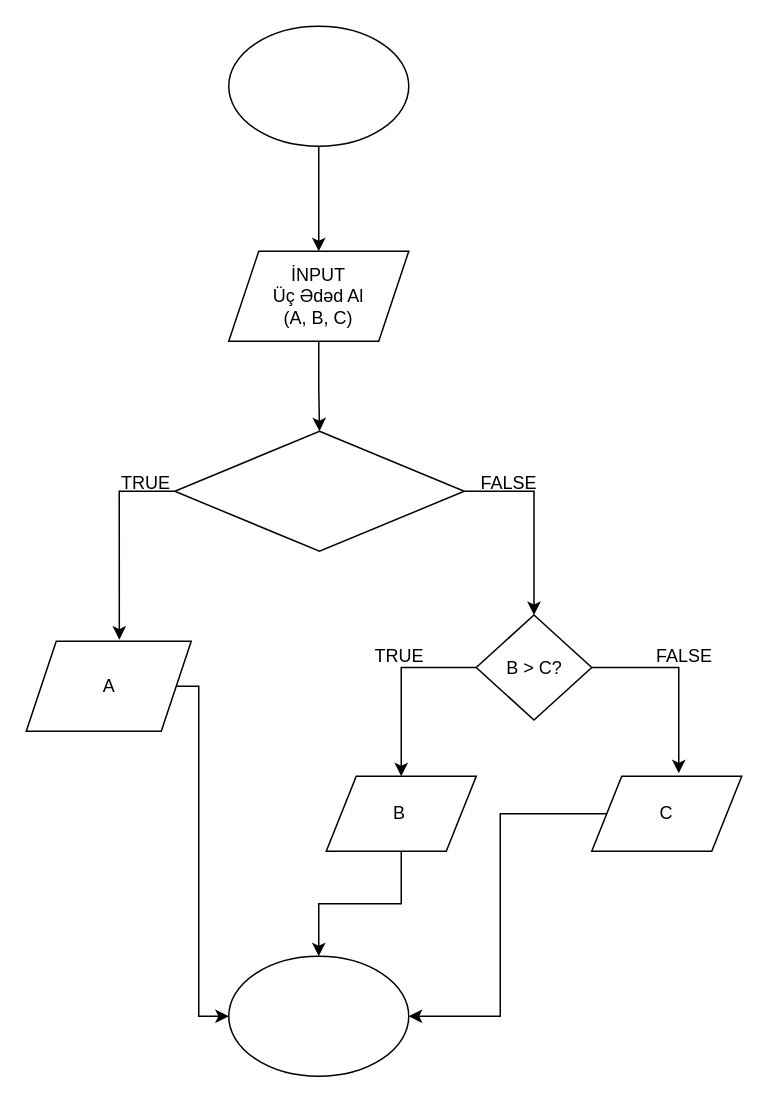
This 768x1103 diagram has some shape labels left out. The shapes that lost their labels are listed below. From the top down, each one's box as (x1, y1, x2, y2) in pixels, then its label:
(227, 25, 409, 146): START
(173, 430, 464, 551): A > B && A > C?
(227, 955, 409, 1076): FINISH
